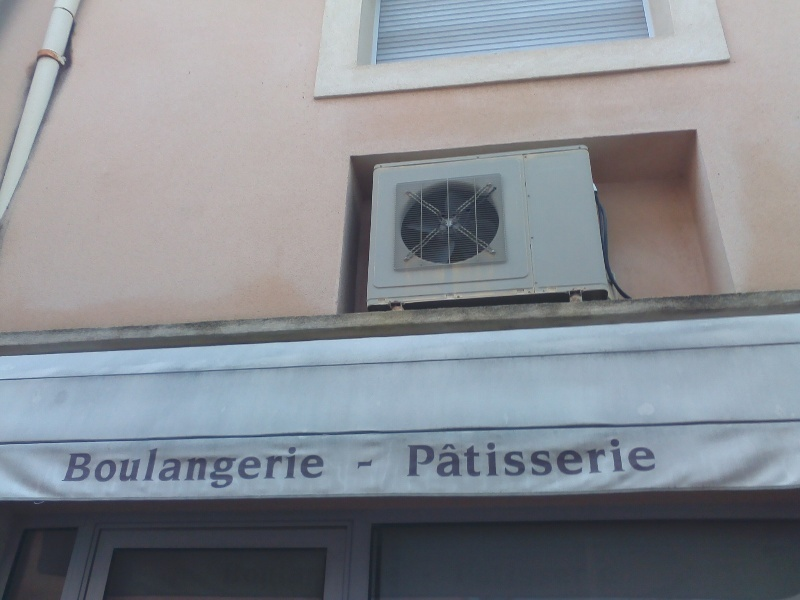text: (81, 443, 96, 490), (97, 443, 112, 490), (113, 443, 128, 490), (129, 443, 144, 490), (145, 443, 160, 490), (161, 443, 176, 490), (177, 443, 192, 490), (193, 443, 208, 490), (209, 443, 224, 490), (225, 443, 240, 490), (241, 443, 256, 490), (257, 443, 272, 490), (273, 443, 288, 490), (289, 443, 304, 490), (305, 443, 320, 490), (417, 438, 432, 478), (433, 438, 448, 478), (449, 438, 464, 478), (465, 438, 480, 478), (481, 438, 496, 478), (497, 438, 512, 478), (513, 438, 528, 478), (529, 438, 544, 478), (545, 438, 560, 478), (561, 438, 576, 478), (577, 438, 592, 478), (593, 438, 608, 478), (609, 438, 624, 478), (625, 438, 640, 478), (641, 438, 656, 478), (70, 443, 80, 490), (408, 438, 416, 478), (321, 443, 325, 490), (356, 457, 368, 471), (369, 457, 377, 471), (657, 438, 659, 478)
